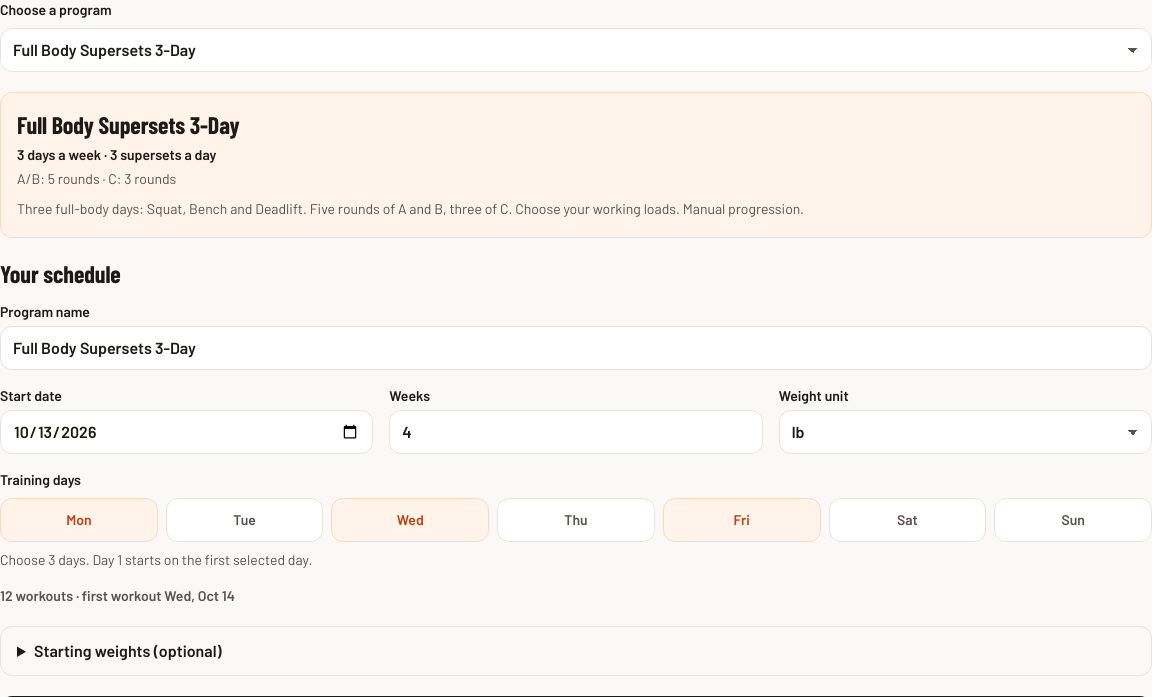
Test: CreateProgramForm › leads with ready programs while keeping original training systems in the same chooser
Check: the number field labelled "Weeks" holds "4", box x1=389 y1=410 x2=763 y2=454
Check: the date field labelled "Start date" holds "2026-10-13", box x1=0 y1=410 x2=373 y2=454
Select "Basic Strength 3-Day" in the dropdown labelled "Choose a program": (576, 50) x1=0 y1=28 x2=1151 y2=72
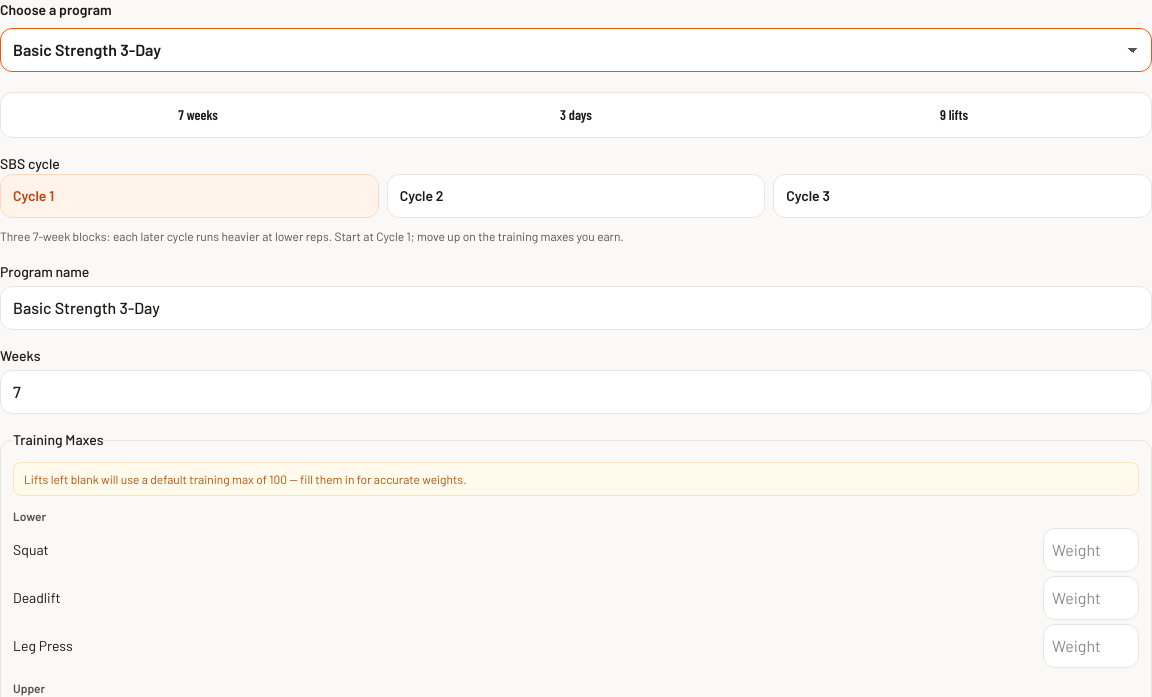
Check: the number field labelled "Weeks" holds "7", box x1=0 y1=370 x2=1151 y2=414
Check: the text "Training Maxes" is shown, box x1=13 y1=430 x2=104 y2=450
Select "Blank Custom" in the dropdown labelled "Choose a program": (576, 50) x1=0 y1=28 x2=1151 y2=72
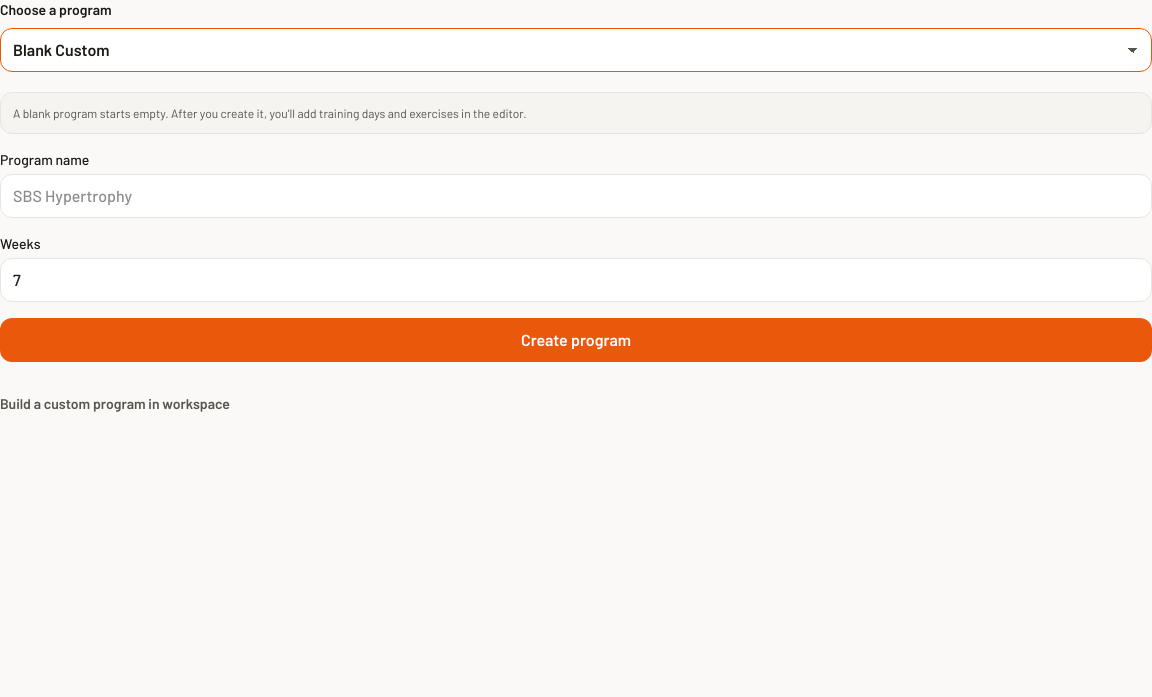
Check: the field labelled "Program name" is empty, box x1=0 y1=174 x2=1151 y2=218
Check: the text "A blank program starts empty" is shown, box x1=13 y1=106 x2=527 y2=120
